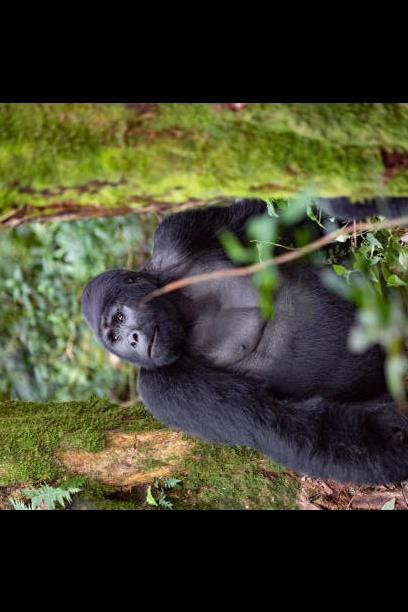goriile_montagne: (17, 138, 408, 498)
